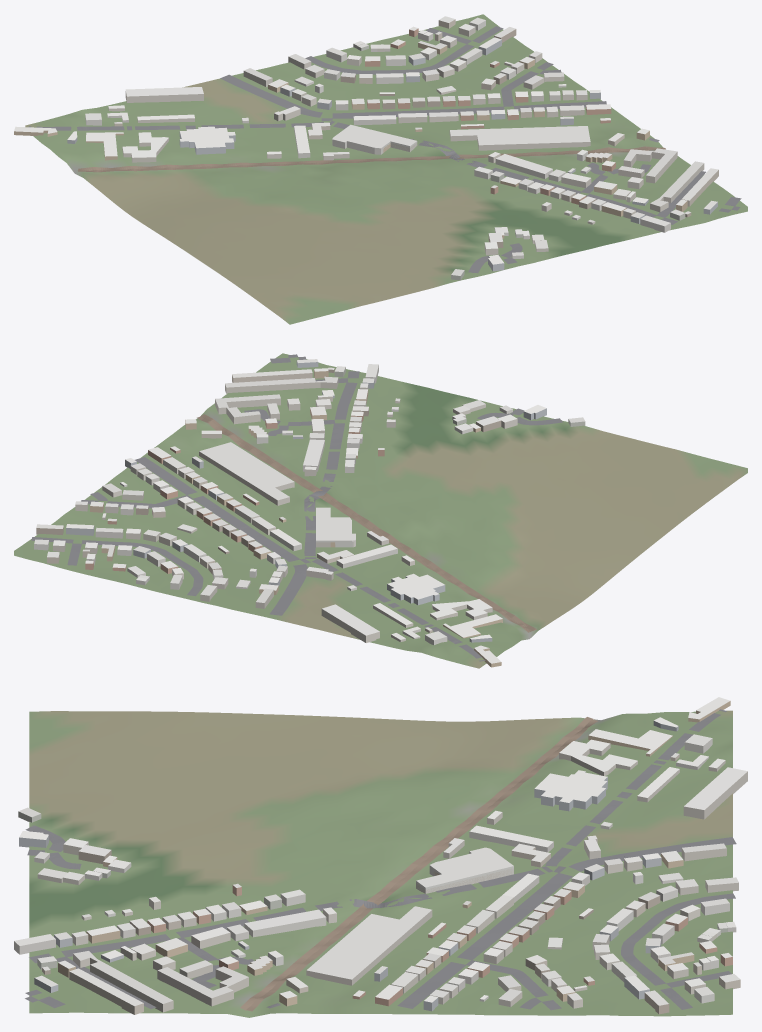
3 renders of one model, top to bottom at view 1: azimuth 30°, elevation 25°; view 2: azimuth 150°, elevation 25°; view 3: azimuth 270°, elevation 25°, orthographic. The views are drawn at different scales.
Visible parts, largest first — view 1: prim0, prim1, prim2, prim3; view 2: prim0, prim1, prim2, prim3; view 3: prim0, prim1, prim2, prim3.
Part boxes in pixels (x1=…): prim0: x1=25, y1=14, x2=747, y2=324; prim1: x1=14, y1=16, x2=718, y2=280; prim2: x1=29, y1=26, x2=741, y2=273; prim3: x1=78, y1=146, x2=665, y2=172; prim0: x1=14, y1=353, x2=747, y2=668; prim1: x1=34, y1=359, x2=585, y2=667; prim2: x1=31, y1=354, x2=563, y2=661; prim3: x1=197, y1=414, x2=536, y2=632; prim0: x1=29, y1=710, x2=732, y2=1017; prim1: x1=14, y1=697, x2=747, y2=1014; prim2: x1=25, y1=709, x2=736, y2=1010; prim3: x1=240, y1=717, x2=597, y2=1011.
Bounding box in the file's own units: 542 × 21.82 × 534.
